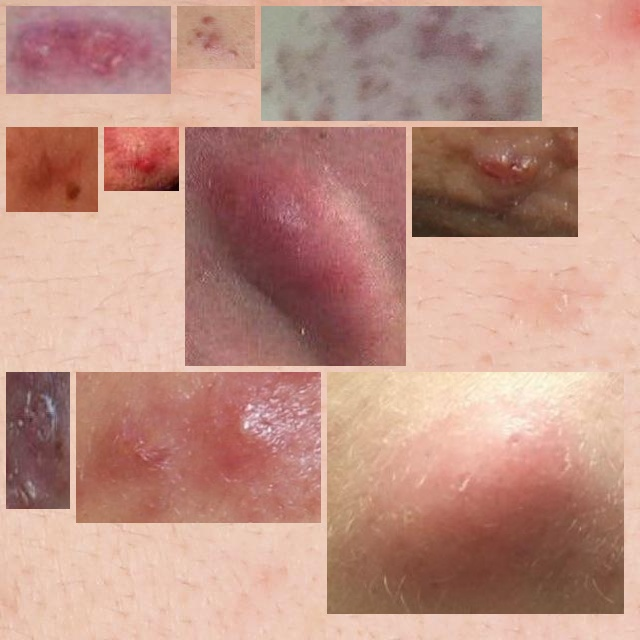nodule: (335, 380, 616, 606), (193, 135, 398, 358), (84, 380, 313, 515), (269, 7, 534, 113), (420, 135, 570, 229), (14, 14, 163, 86), (14, 380, 62, 501), (14, 135, 90, 204), (185, 14, 247, 61), (112, 135, 171, 183)
